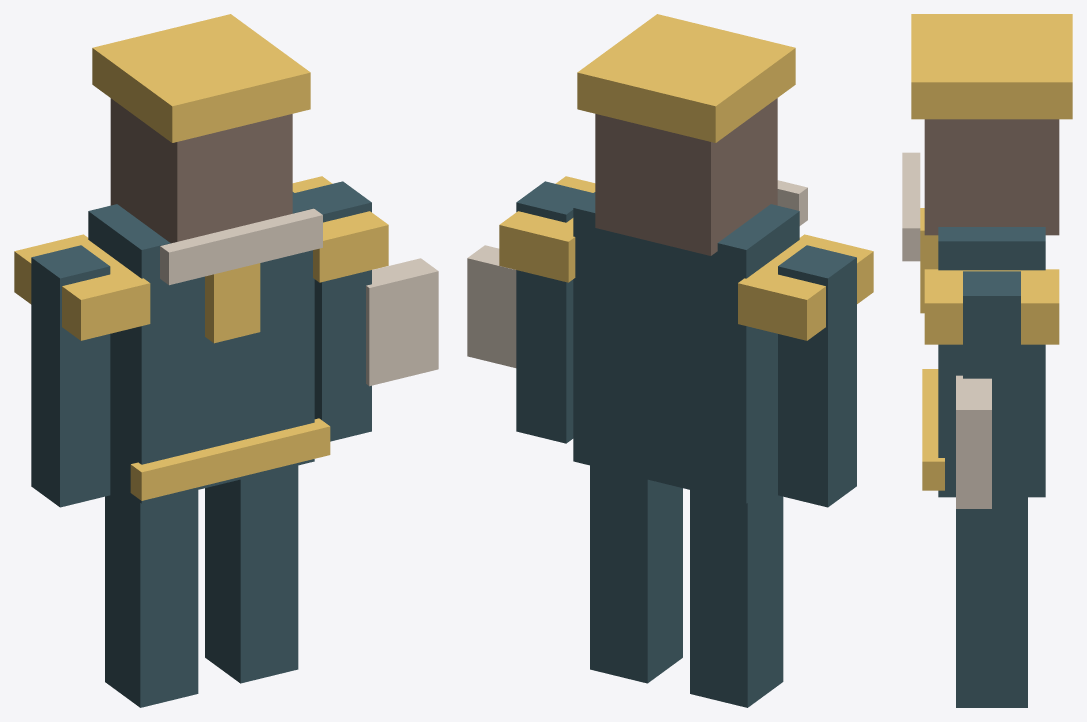
The model's file is 01_zerin_spirebound_captain_of.glb.
3 views of the same model, side by side, from view 1: azimuth 30°, elevation 25°; view 2: azimuth 150°, elevation 25°; view 3: azimuth 270°, elevation 25° (orthographic).
Parts seen in each view (by area): view 1: Zerin Spirebound, Captain of; view 2: Zerin Spirebound, Captain of; view 3: Zerin Spirebound, Captain of.
Part boxes in pixels (x1,y1,x2,y2): Zerin Spirebound, Captain of: (14, 14, 438, 707); Zerin Spirebound, Captain of: (467, 14, 873, 707); Zerin Spirebound, Captain of: (902, 14, 1072, 707).
Bounding box in the file's own units: 1.05 × 1.65 × 0.4099.
